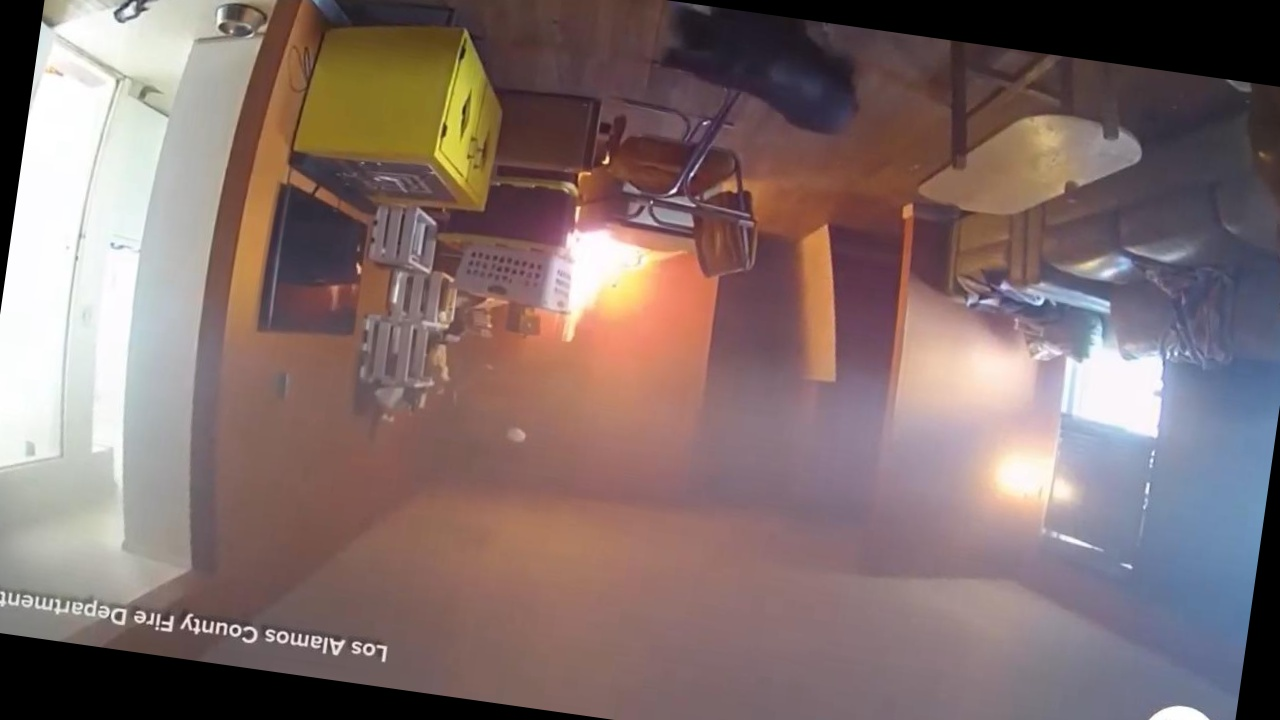fire: (546, 200, 669, 337)
